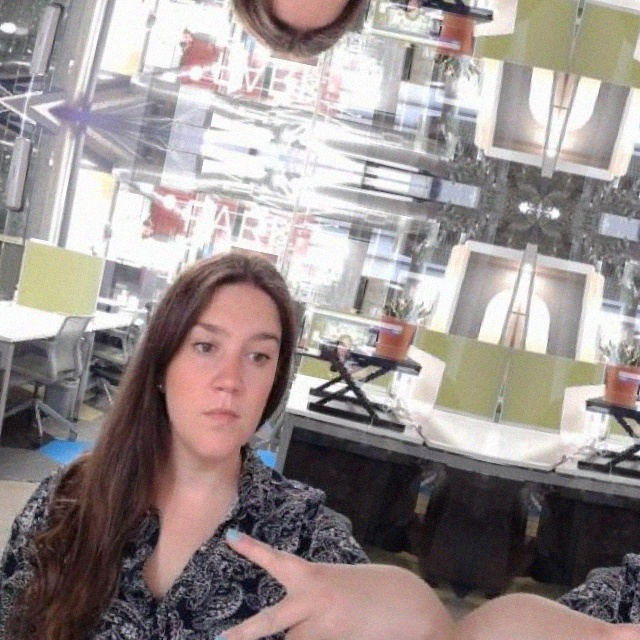Scissors: (192, 523, 423, 640)
